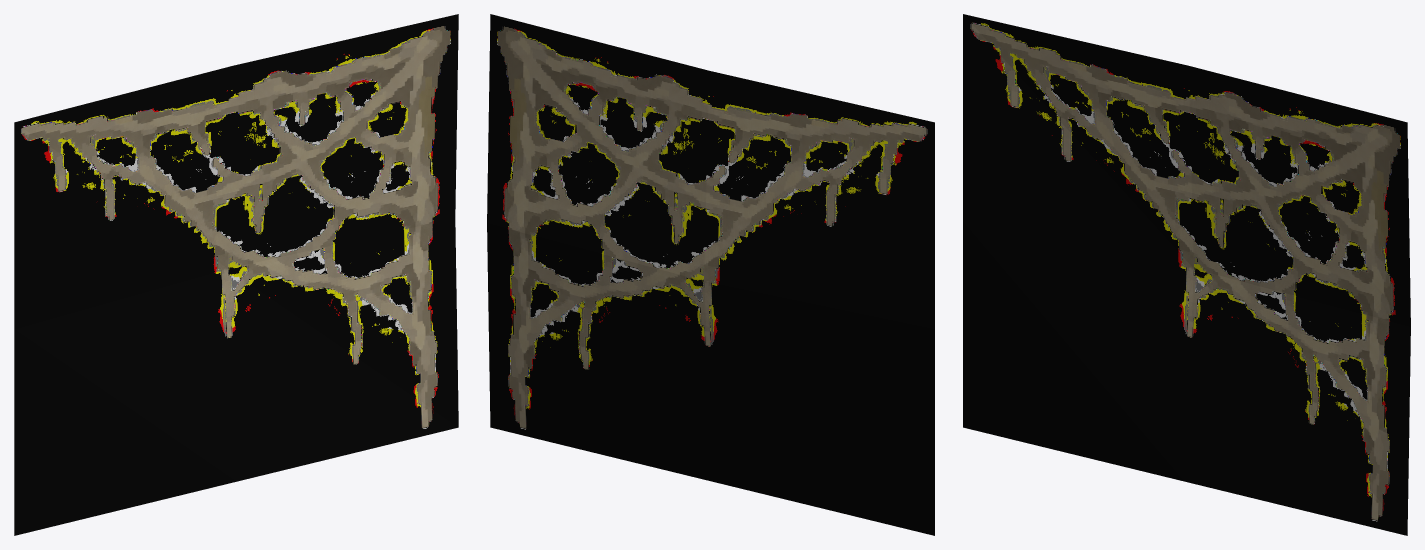
Rendered from SM_SP01_WebCorner.fbx.
The picture shows the model from 3 angles, left to right: view 1: azimuth 30°, elevation 25°; view 2: azimuth 150°, elevation 25°; view 3: azimuth 330°, elevation 25°; orthographic projection.
Parts seen in each view (by area): view 1: SP01_Web; view 2: SP01_Web; view 3: SP01_Web.
Boxes of the visible parts, x1=… form: SP01_Web: x1=14, y1=14, x2=458, y2=535; SP01_Web: x1=487, y1=14, x2=934, y2=535; SP01_Web: x1=963, y1=14, x2=1410, y2=535.
Bounding box in the file's own units: 0.9 × 0.8 × 0.03.
